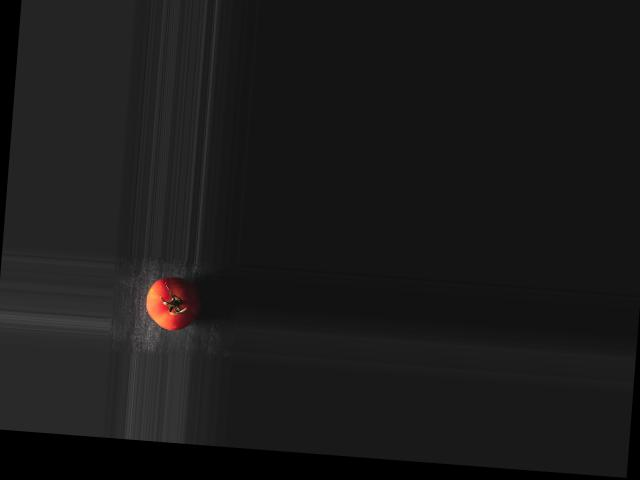tomato: (144, 275, 201, 331)
